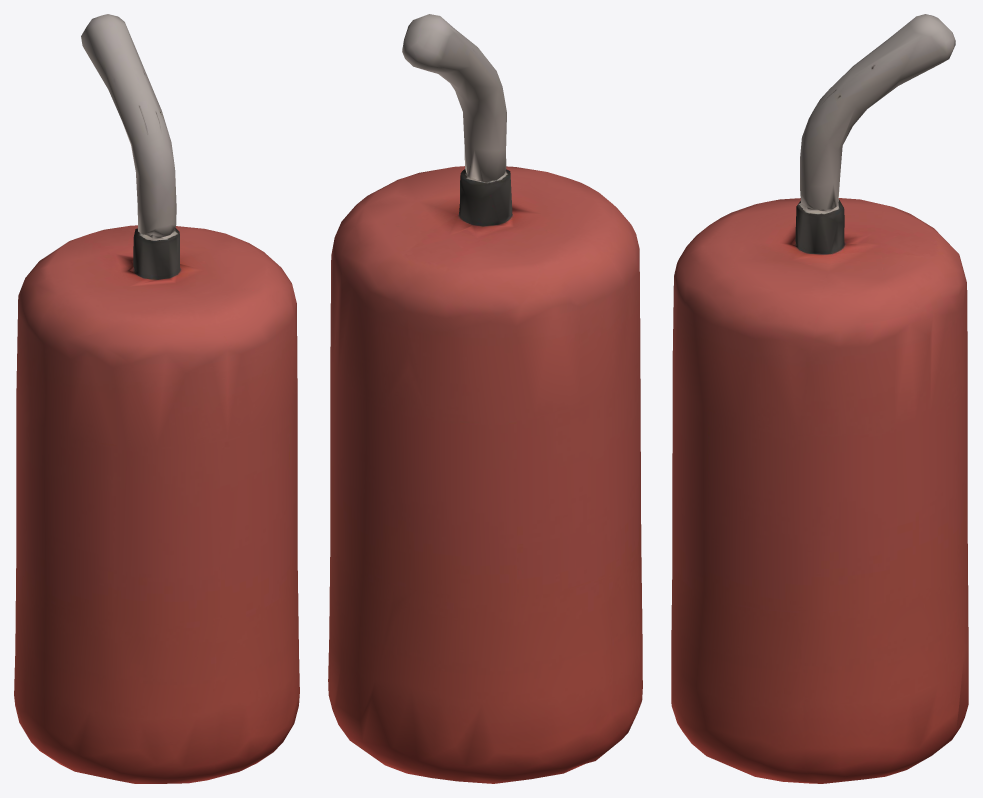
The model's file is firecracker.glb.
3 renders of one model, left to right at view 1: azimuth 30°, elevation 25°; view 2: azimuth 150°, elevation 25°; view 3: azimuth 270°, elevation 25°, orthographic. The views are drawn at different scales.
Parts seen in each view (by area): view 1: tripo_node_b9cc9449-7bc9-4331-94e0-64ff701e7486; view 2: tripo_node_b9cc9449-7bc9-4331-94e0-64ff701e7486; view 3: tripo_node_b9cc9449-7bc9-4331-94e0-64ff701e7486.
Boxes of the visible parts, box(x1,y1,x2,y2) form: tripo_node_b9cc9449-7bc9-4331-94e0-64ff701e7486: box(14, 14, 299, 783); tripo_node_b9cc9449-7bc9-4331-94e0-64ff701e7486: box(328, 14, 642, 783); tripo_node_b9cc9449-7bc9-4331-94e0-64ff701e7486: box(671, 14, 968, 783).
Bounding box in the file's own units: 0.3804 × 0.9994 × 0.3779.
1 material, 1 textured.
